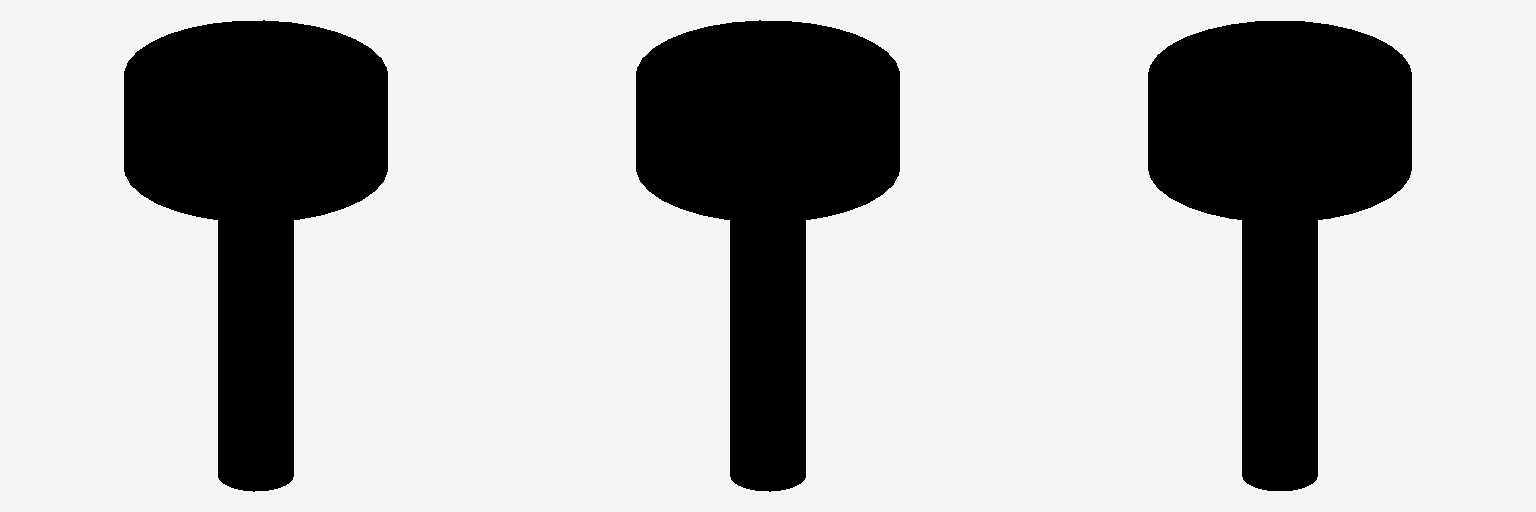
URDF robot description (bolt.urdf):
<?xml version="1.0" ?>
<robot name="bolt.urdf">
  <link name="baseLink">
    <contact>
      <restitution value="0.0" />
      <lateral_friction value="0.15"/>
      <rolling_friction value="0.0"/>
      <contact_cfm value="0.0"/>
      <contact_erp value="1.0"/>
    </contact>

    <inertial>
      <origin rpy="0 0 0" xyz="-1.9700000000e-06  7.4100000000e-06  6.2192280000e-02"/>
      <mass value="0.0075"/>

      <inertia ixx="7.2749101405e-06" ixy="4.3246839828e-11" ixz="-7.6769027288e-10" iyy="7.2747014891e-06" iyz="2.9774564052e-09" izz="3.0108308392e-06"/>

      <!-- <inertia ixx="1" ixy="0" ixz="0" iyy="1" iyz="0" izz="1"/> -->
    </inertial>

    <visual>
      <origin rpy="0 0 0" xyz="0 0 0.045"/>
      <!-- <geometry>
        <mesh filename="bolt/blender_bolt_005_clean_mesh.dae" scale="1 1 1"/>
      </geometry> -->
      <geometry>
        <!-- Bolt trunk visual model-->
        <cylinder radius="0.01" length="0.09"/>
      </geometry>
        <material name="red">
          <!-- <color rgba="1 0 0 1"/> -->
          <color rgba="0 0 0 1"/>
        </material>
    </visual>
    <visual>
      <origin rpy="0 0 0" xyz="0 0 0.103175"/>
      <!-- <geometry>
        <mesh filename="bolt/blender_bolt_005_clean_mesh.dae" scale="1 1 1"/>
      </geometry> -->
      <geometry>
        <!-- Bolt head visual model-->
        <cylinder radius="0.035" length="0.02635"/>
      </geometry>
       <material name="red">
        <!-- <color rgba="1 0 0 1"/> -->
        <color rgba="0 0 0 1"/>
      </material>
    </visual>


    <collision>
      <origin rpy="0 0 0" xyz="0 0 0.045"/>
      <geometry>
        <!-- Bolt trunk collision model-->
        <cylinder radius="0.01" length="0.09"/>
      </geometry>
      <!-- <geometry>
	 	<mesh filename="bolt/blender_bolt_005_clean_mesh.dae" scale="1 1 1"/>
      </geometry> -->
    </collision>
    <collision>
      <origin rpy="0 0 0" xyz="0 0 0.103175"/>
      <geometry>
        <!-- Bolt head collision model-->
        <cylinder radius="0.035" length="0.02635"/>
      </geometry>
    </collision>
    <collision>
      <origin rpy="0 0 0" xyz = "0 0 0.129525"/>
      <geometry>
        <sphere radius="0.01"/>
      </geometry>
    </collision>
  </link>
</robot>

--- What the picture shows (computed from the rendered views, not written in the file) ---
Views: 3 orthographic renders of the robot side by side, from view 1: azimuth 30°, elevation 25°; view 2: azimuth 150°, elevation 25°; view 3: azimuth 270°, elevation 25°.
Robot: bolt.urdf — 1 links, 0 joints (none); root link baseLink; default pose: all joints at 0.
Links seen in each view (by area): view 1: baseLink; view 2: baseLink; view 3: baseLink.
Link boxes in pixels (<box>): baseLink: <box>124,20,387,491</box>; baseLink: <box>636,20,899,491</box>; baseLink: <box>1148,21,1411,490</box>.
Size in the robot's own frame: 0.07 by 0.07 by 0.1164 metres.
Geometry: primitives only (box / cylinder / sphere), no mesh files.
